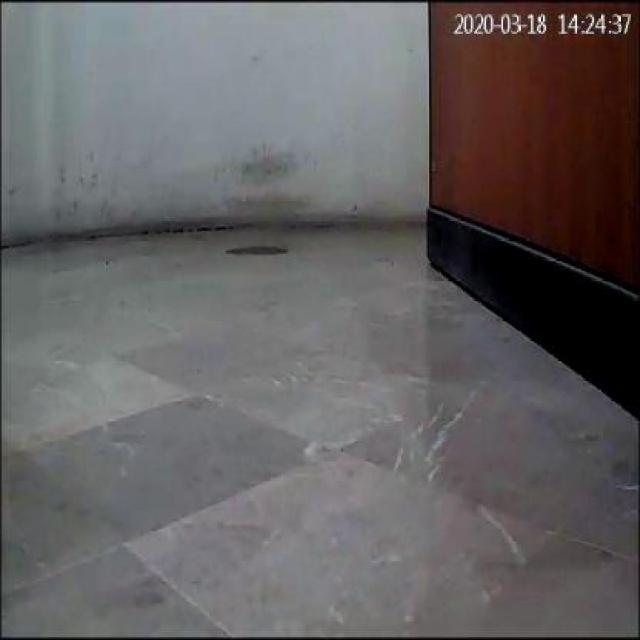spill: (224, 242, 288, 256)
